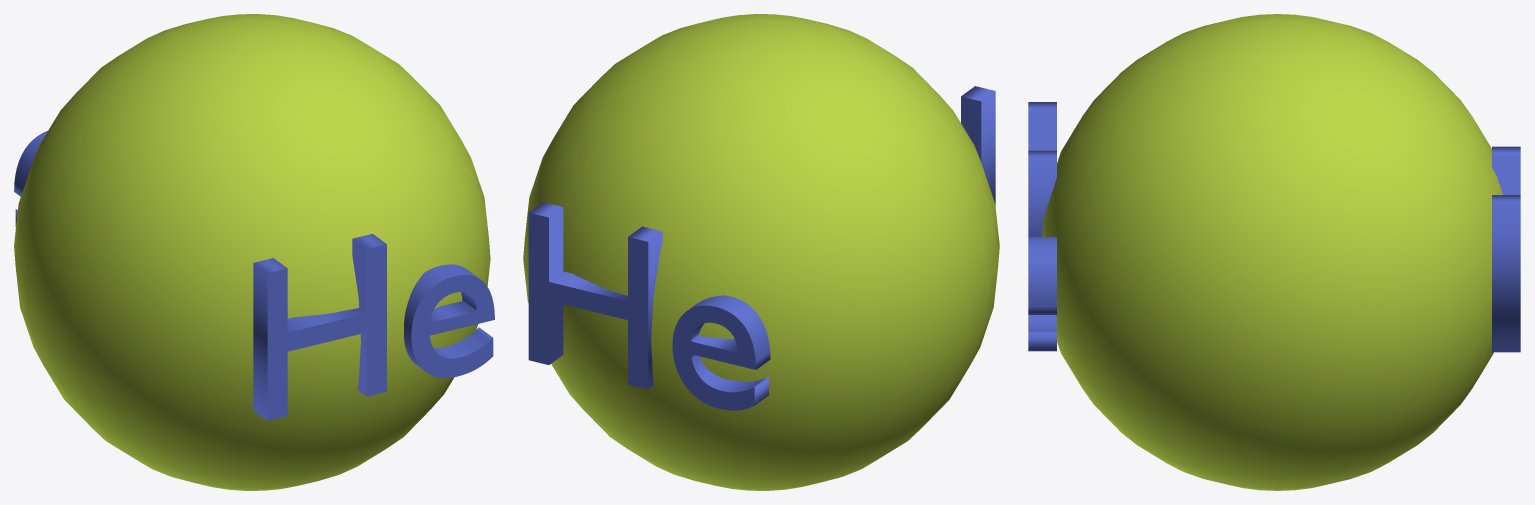
Rendered from ExportedBlenderFBXFile.fbx.
3 renders of one model, left to right at view 1: azimuth 30°, elevation 25°; view 2: azimuth 150°, elevation 25°; view 3: azimuth 270°, elevation 25°, orthographic.
Visible parts, largest first — view 1: Sphere, Text, Text_001; view 2: Sphere, Text_001, Text; view 3: Sphere, Text, Text_001.
Part boxes in pixels (bbox=[...]): Sphere: bbox=[14, 14, 490, 490]; Text: bbox=[253, 234, 494, 420]; Text_001: bbox=[14, 131, 47, 227]; Sphere: bbox=[523, 14, 999, 490]; Text_001: bbox=[528, 202, 770, 410]; Text: bbox=[961, 86, 995, 205]; Sphere: bbox=[1042, 14, 1502, 490]; Text: bbox=[1028, 102, 1056, 351]; Text_001: bbox=[1492, 146, 1520, 352].
Size of the model in its own units: 2 by 2 by 2.06.
